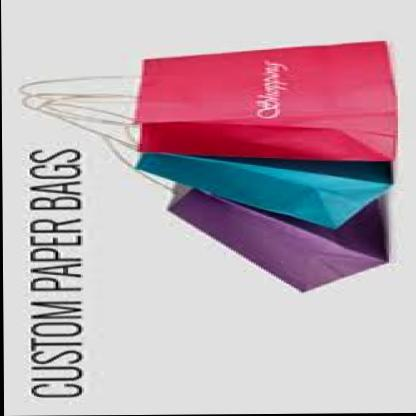Paper: (33, 18, 400, 172), (127, 181, 388, 314), (91, 148, 384, 221)
